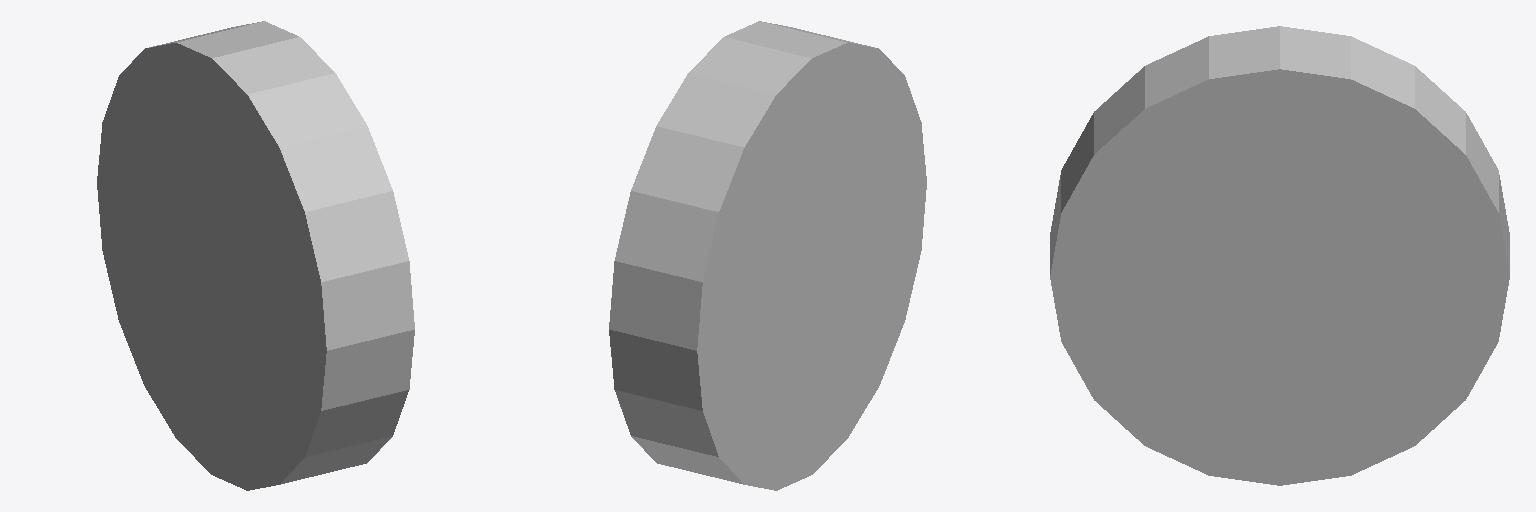
The model's file is RyanCarWheel.obj.
The picture shows the model from 3 angles: view 1: azimuth 30°, elevation 25°; view 2: azimuth 150°, elevation 25°; view 3: azimuth 270°, elevation 25°; orthographic projection.
Bounding box in the file's own units: 0.2151 × 0.9701 × 0.9701.